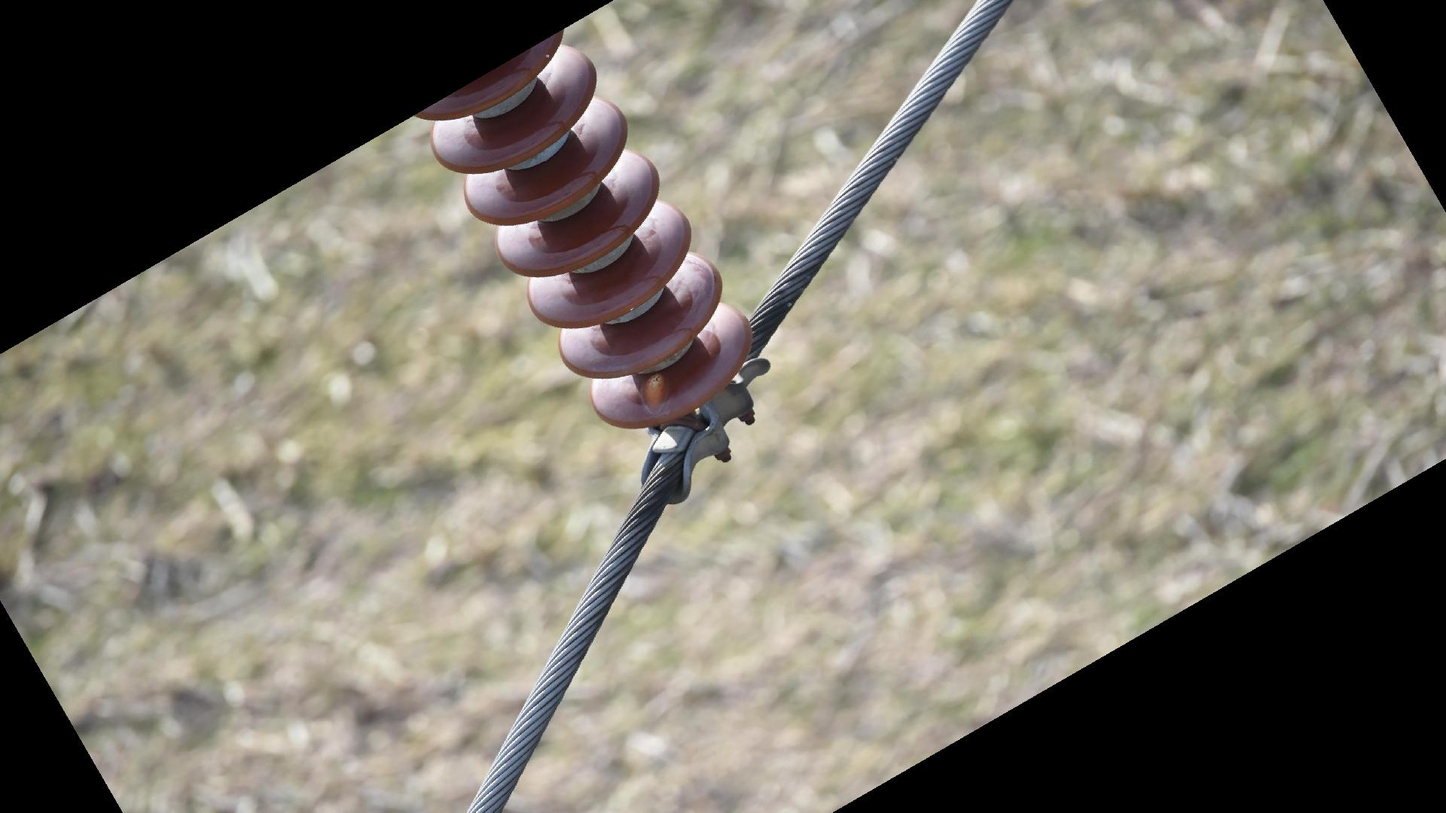insulator: (408, 16, 761, 437)
insulator_flashover: (635, 369, 672, 416)
